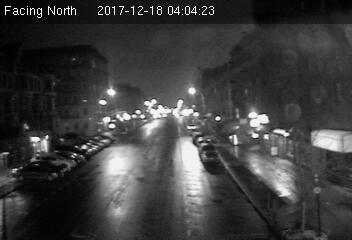car: (200, 150, 217, 162)
